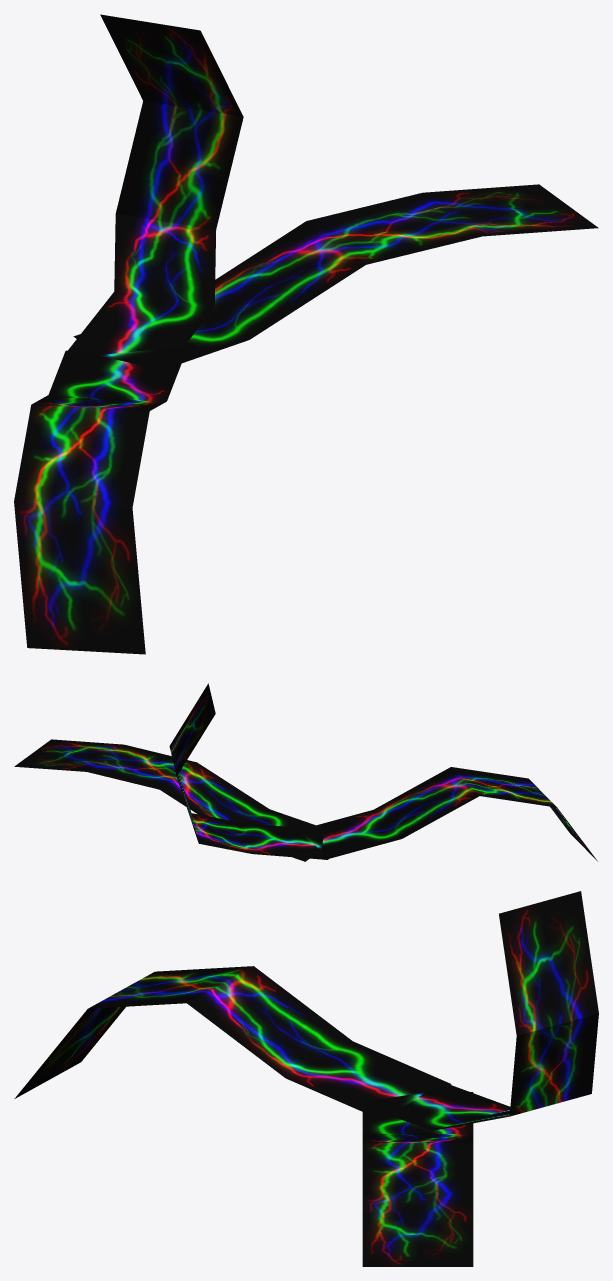
File: Effect1.FBX
The picture shows the model from 3 angles, top to bottom: view 1: azimuth 30°, elevation 25°; view 2: azimuth 150°, elevation 25°; view 3: azimuth 270°, elevation 25°; orthographic projection. The views are drawn at different scales.
Parts seen in each view (by area): view 1: lightning02_SM; view 2: lightning02_SM; view 3: lightning02_SM.
Part boxes in pixels (x1,y1,x2,y2): lightning02_SM: (14,14,598,654); lightning02_SM: (14,683,597,861); lightning02_SM: (14,891,598,1266).
Size of the model in its own units: 280 by 131 by 211.
